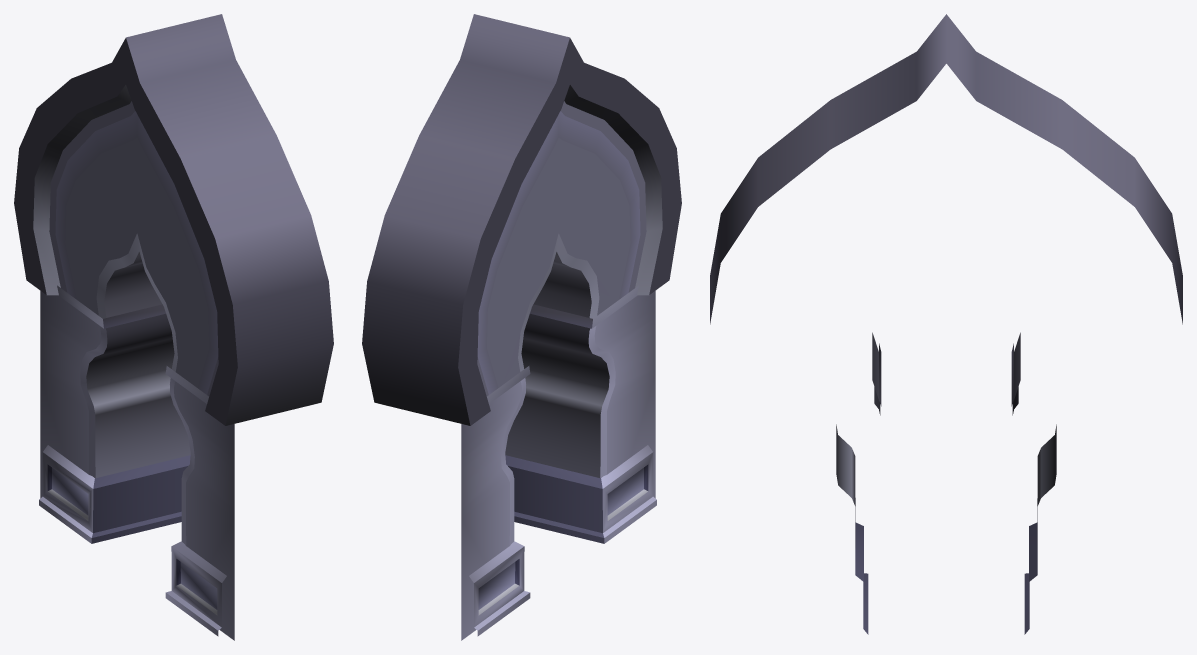
The model's file is GateFixed.gltf.
The picture shows the model from 3 angles, left to right: view 1: azimuth 30°, elevation 25°; view 2: azimuth 150°, elevation 25°; view 3: azimuth 270°, elevation 25°; orthographic projection. The views are drawn at different scales.
Parts seen in each view (by area): view 1: GateFixedMesh; view 2: GateFixedMesh; view 3: GateFixedMesh.
Boxes of the visible parts, x1,y1,x2,y2 form: GateFixedMesh: [14, 14, 333, 640]; GateFixedMesh: [362, 14, 681, 640]; GateFixedMesh: [710, 14, 1182, 634].
Bounding box in the file's own units: 7.8 × 32.82 × 24.88.
